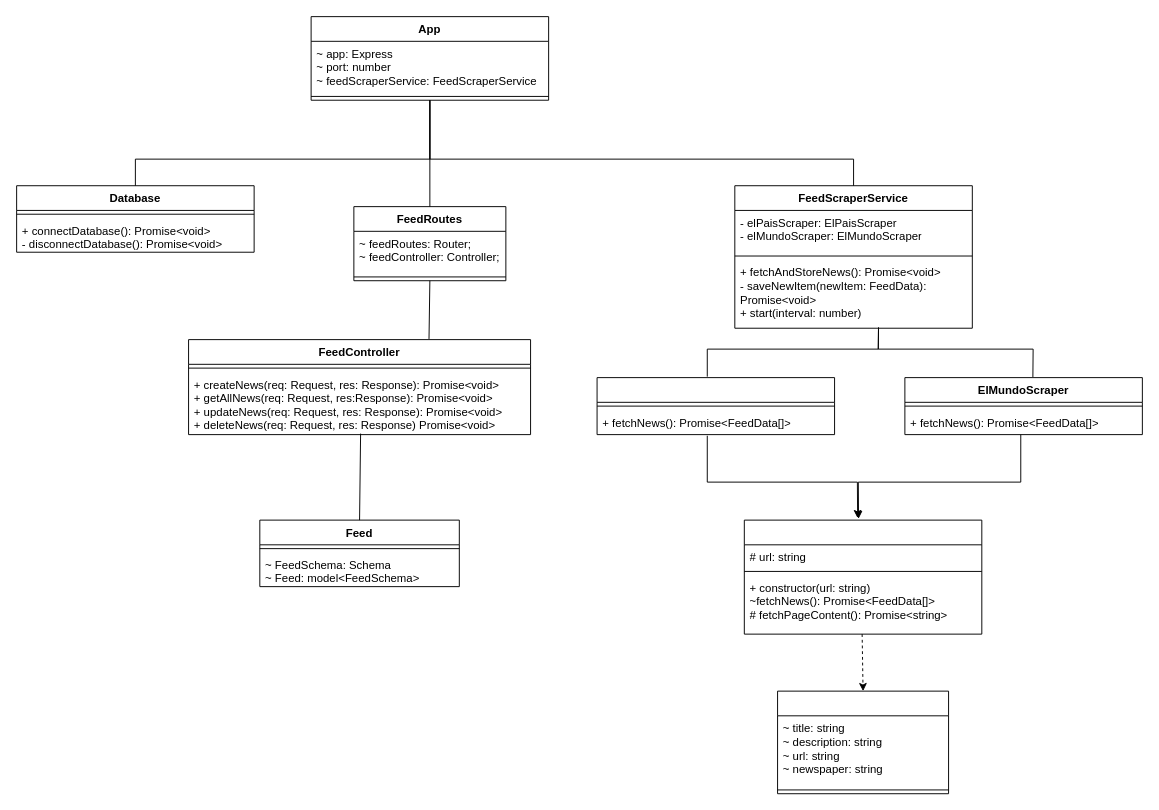
Image size: 1159x810. Some labels were removed from this diagram. The shapes that lost their labels are listed below. From the top down, each one's box as (x1, y1, x2, y2) in pixels, then its label:
(596, 377, 835, 435): ElPaisScraper
(743, 519, 982, 634): Scraper
(777, 690, 949, 794): FeedData
